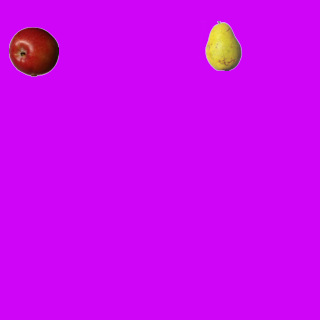Apple Braeburn: (8, 26, 58, 76)
Pear Monster: (198, 20, 248, 70)
